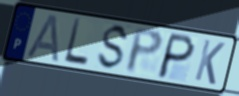A: (25, 13, 60, 64)
K: (192, 38, 227, 87)
L: (62, 17, 90, 68)
P: (154, 31, 197, 81), (124, 27, 165, 75)
S: (95, 23, 132, 72)
